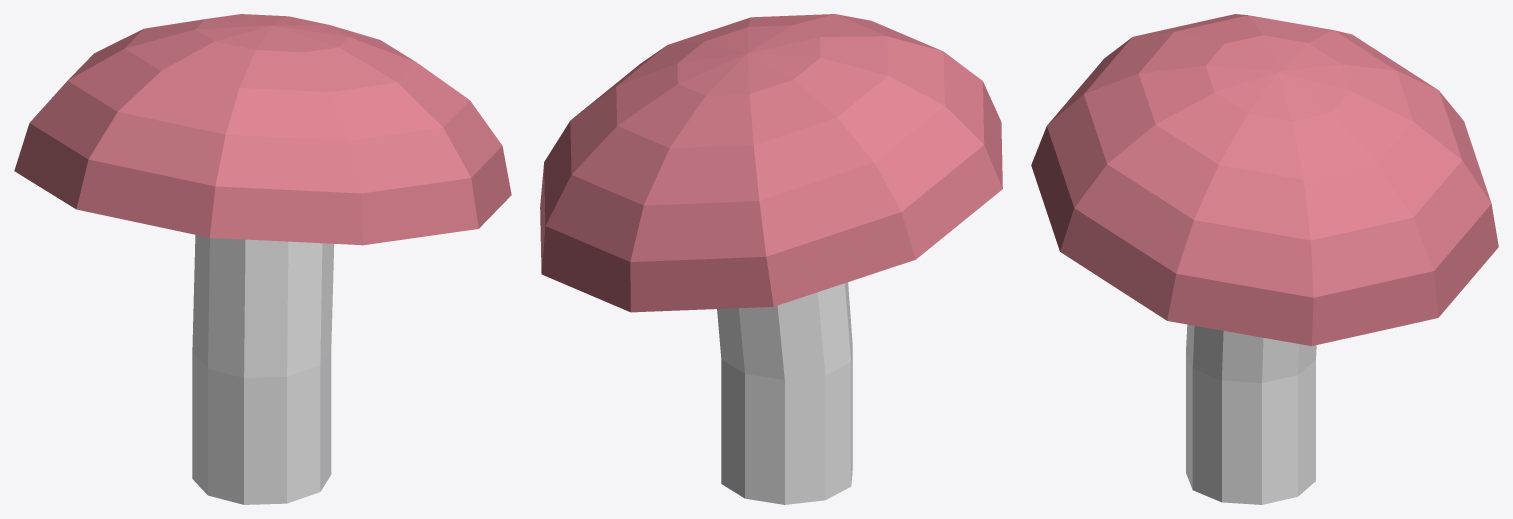
File: mushroom_001_grp.fbx
3 renders of one model, left to right at view 1: azimuth 30°, elevation 25°; view 2: azimuth 150°, elevation 25°; view 3: azimuth 270°, elevation 25°, orthographic. The views are drawn at different scales.
Parts seen in each view (by area): view 1: mushroom_001_grp; view 2: mushroom_001_grp; view 3: mushroom_001_grp.
Part boxes in pixels (left/top/right/bottom): mushroom_001_grp: left=14, top=14, right=511, bottom=504; mushroom_001_grp: left=540, top=14, right=1002, bottom=504; mushroom_001_grp: left=1031, top=14, right=1498, bottom=504.
Bounding box in the file's own units: 80 × 80 × 80.
